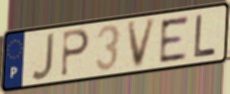3: (95, 22, 123, 74)
E: (158, 14, 190, 65)
J: (30, 30, 57, 82)
L: (193, 13, 218, 60)
P: (59, 28, 91, 79)
V: (125, 16, 159, 71)
